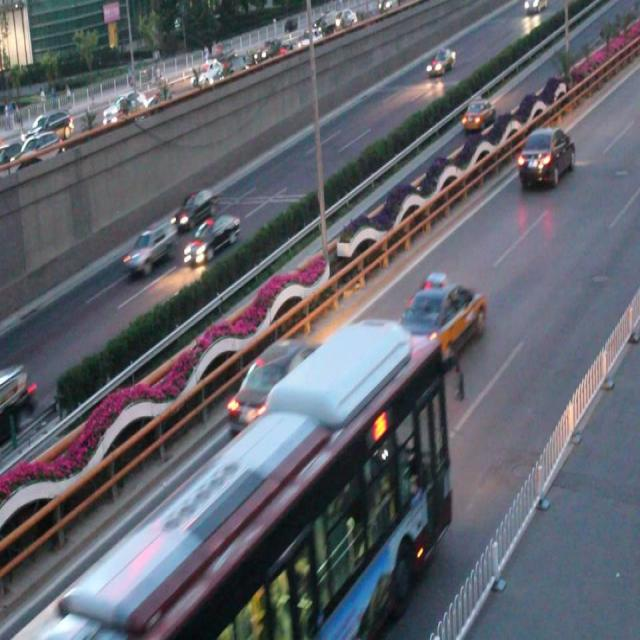car: (396, 272, 485, 363), (227, 341, 321, 426), (515, 126, 574, 187), (123, 220, 176, 278), (182, 214, 240, 267), (173, 188, 218, 229), (460, 96, 496, 134)
van: (44, 322, 453, 640)
